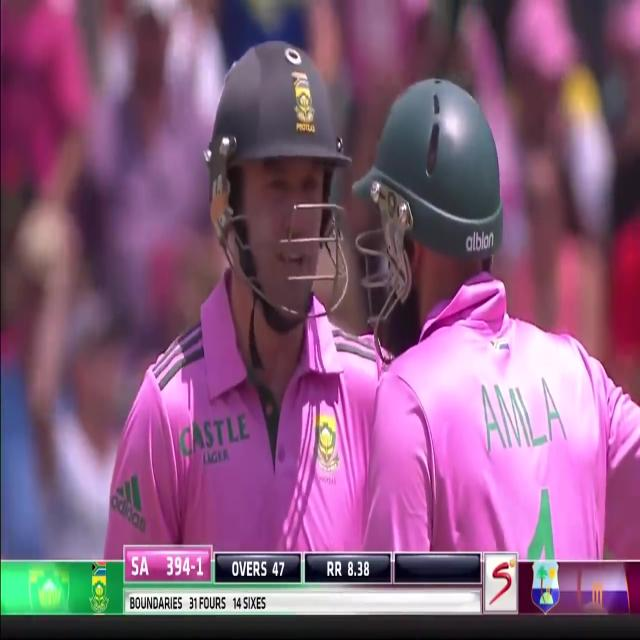Ball: (338, 80, 640, 560), (102, 26, 352, 555)
